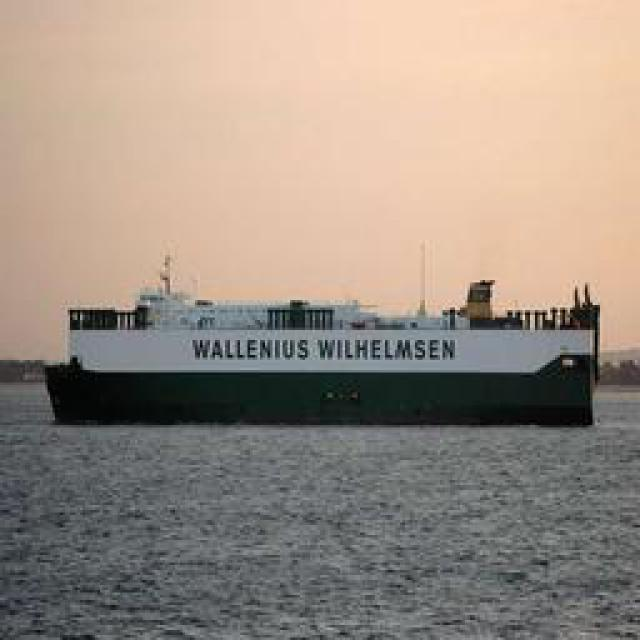Ship: (39, 250, 604, 425)
